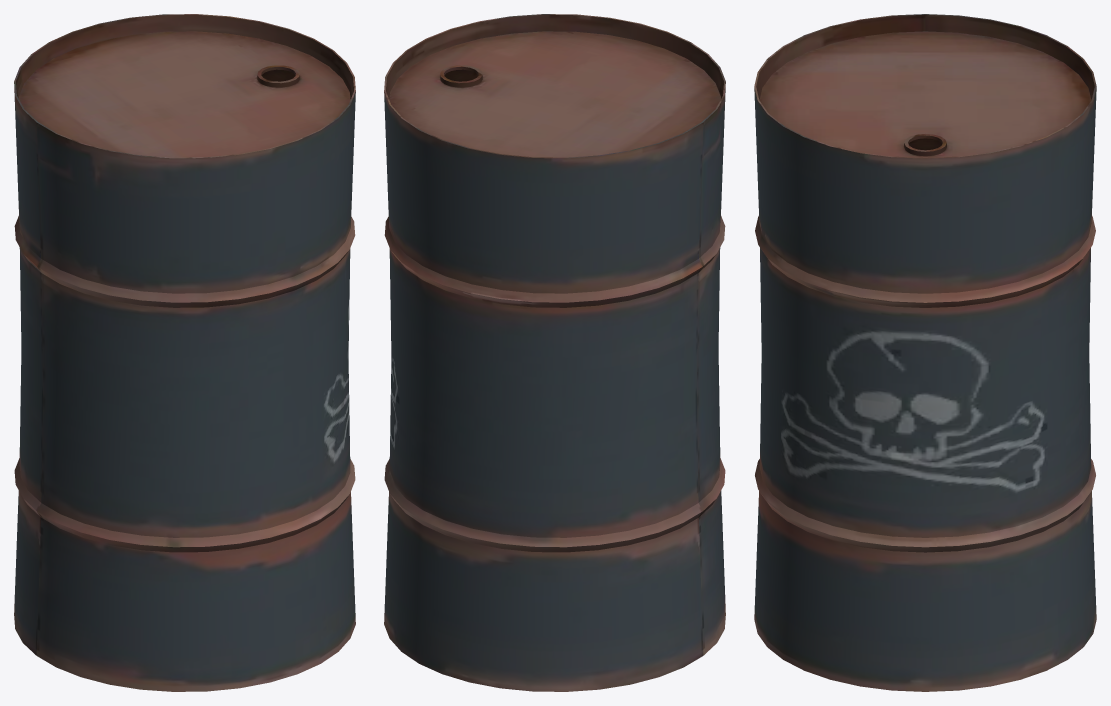
3 views of the same model, side by side, from view 1: azimuth 30°, elevation 25°; view 2: azimuth 150°, elevation 25°; view 3: azimuth 270°, elevation 25° (orthographic).
Parts seen in each view (by area): view 1: body0_model0_lod0_mesh0; view 2: body0_model0_lod0_mesh0; view 3: body0_model0_lod0_mesh0.
Part boxes in pixels (x1,y1,x2,y2): body0_model0_lod0_mesh0: [14, 14, 355, 691]; body0_model0_lod0_mesh0: [384, 14, 725, 691]; body0_model0_lod0_mesh0: [754, 14, 1096, 691].
Size of the model in its own units: 32 by 55 by 32.
1 material, 1 textured.
